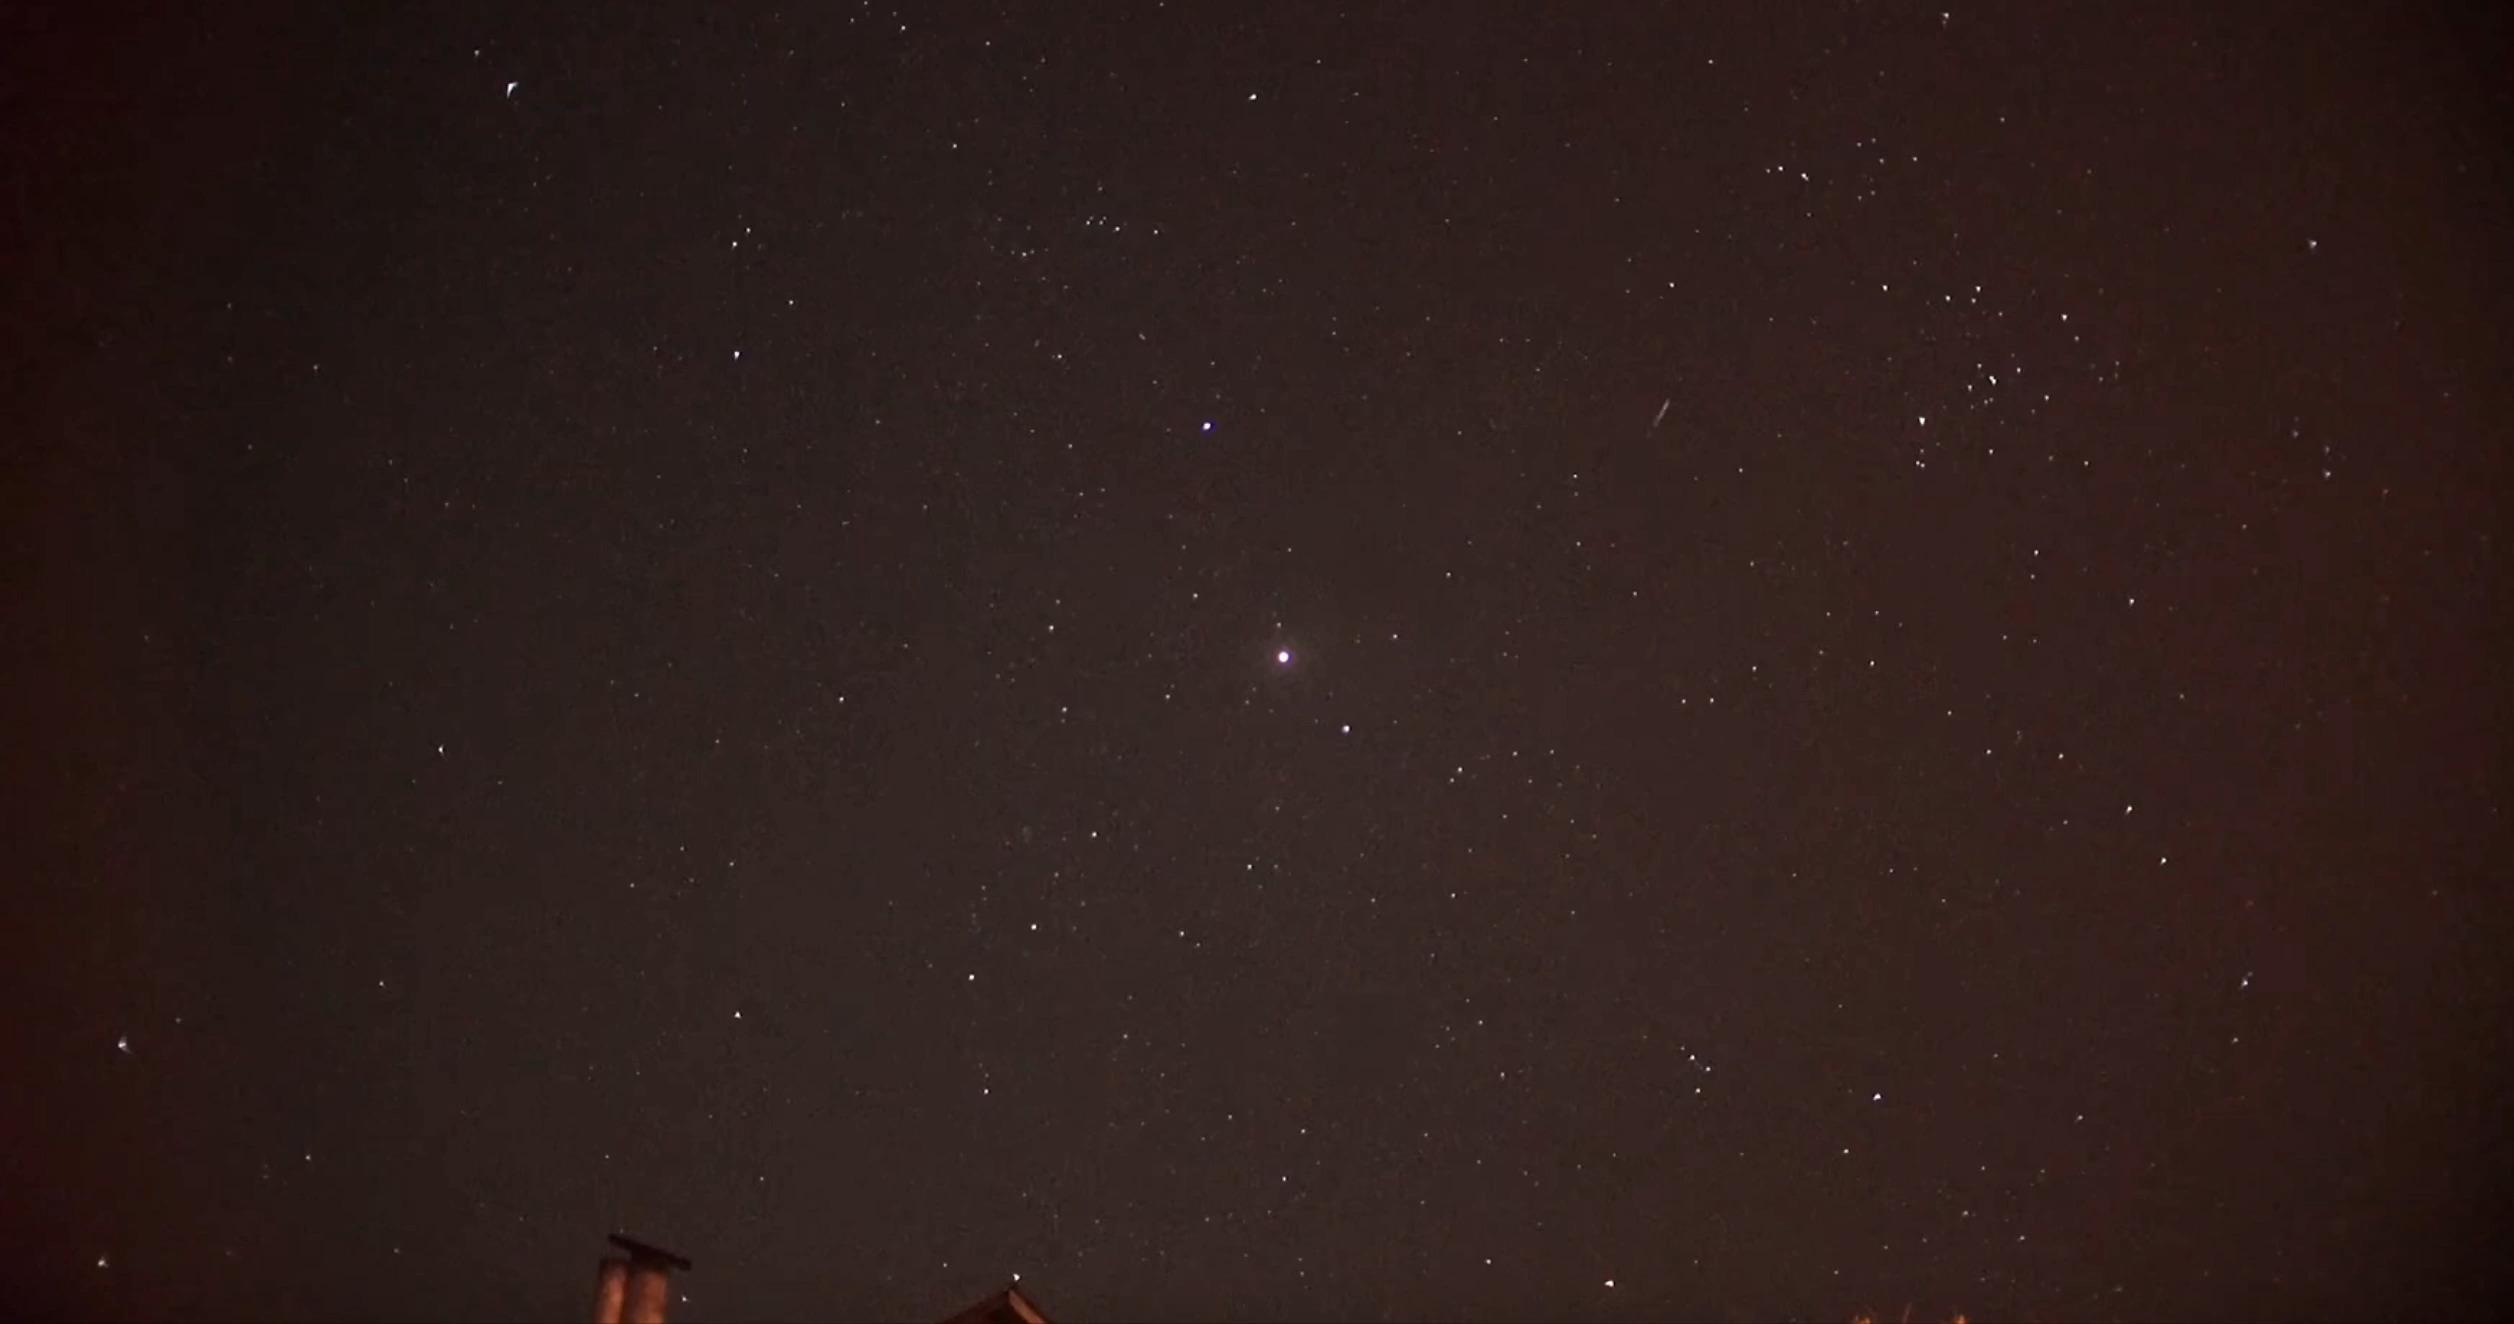meteorite: (1633, 389, 1683, 434)
